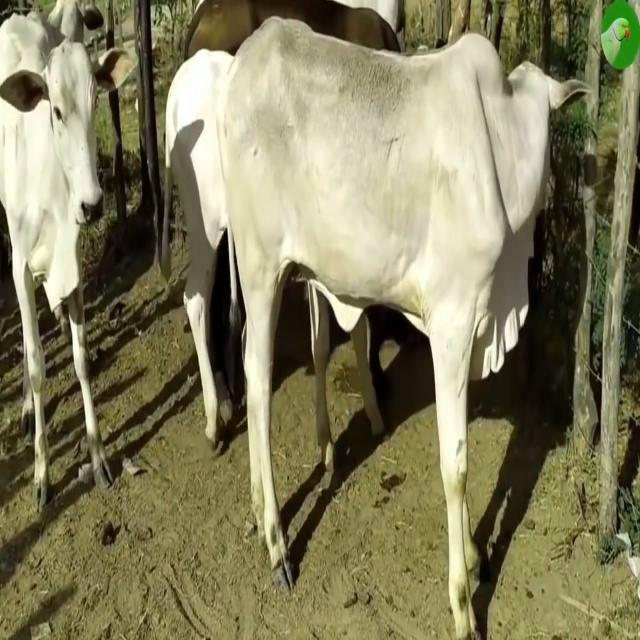cow: (221, 19, 584, 639), (0, 0, 135, 508)
